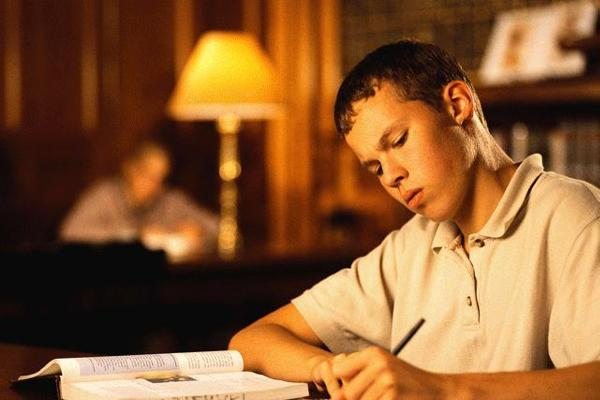person: (228, 39, 600, 400)
